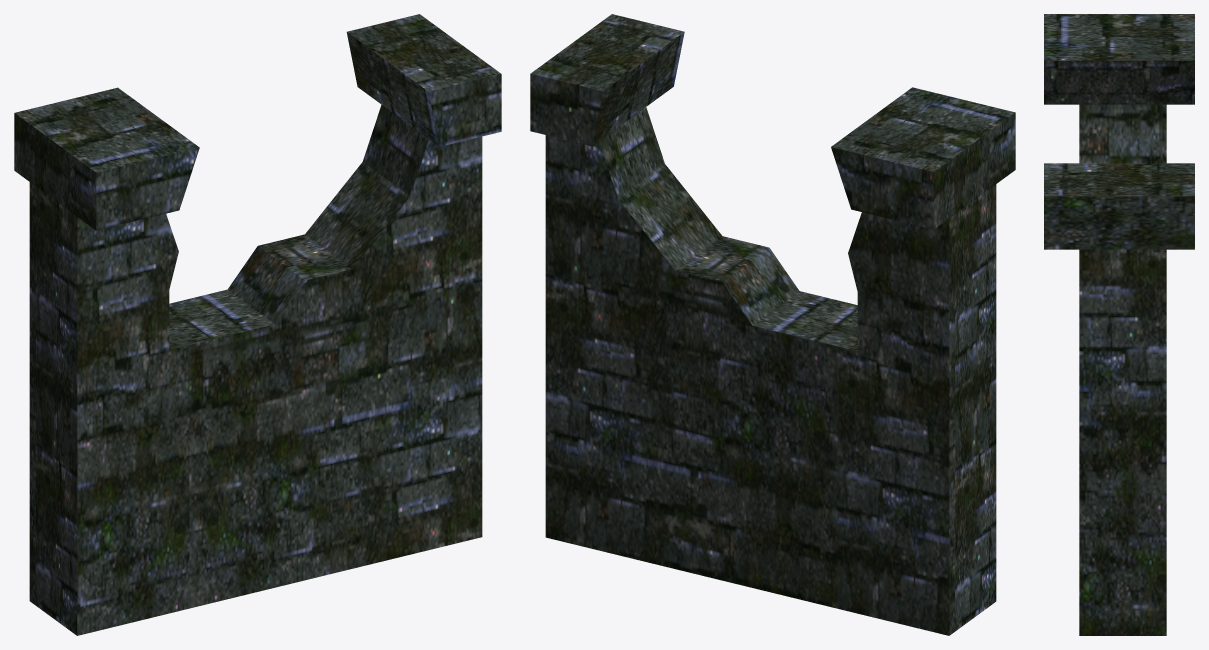
The model's file is wall2.fbx.
3 renders of one model, left to right at view 1: azimuth 30°, elevation 25°; view 2: azimuth 150°, elevation 25°; view 3: azimuth 270°, elevation 25°, orthographic. The views are drawn at different scales.
Parts seen in each view (by area): view 1: wall2; view 2: wall2; view 3: wall2.
Part boxes in pixels (x1=…): wall2: x1=14, y1=14, x2=501, y2=635; wall2: x1=530, y1=14, x2=1015, y2=635; wall2: x1=1044, y1=14, x2=1194, y2=635.
Bounding box in the file's own units: 400 × 450 × 140.
